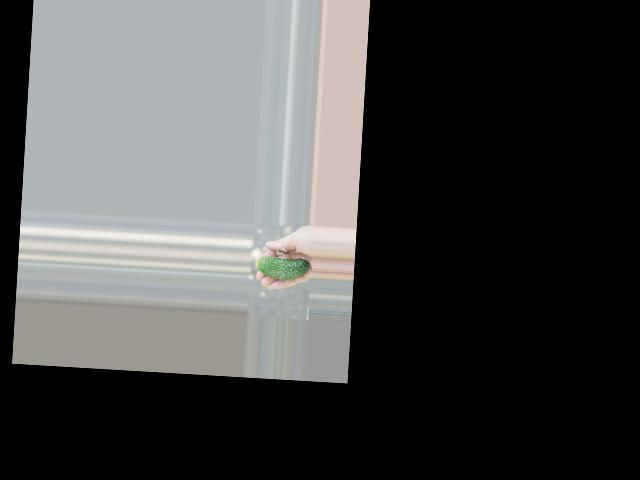cucumber: (257, 256, 309, 281)
